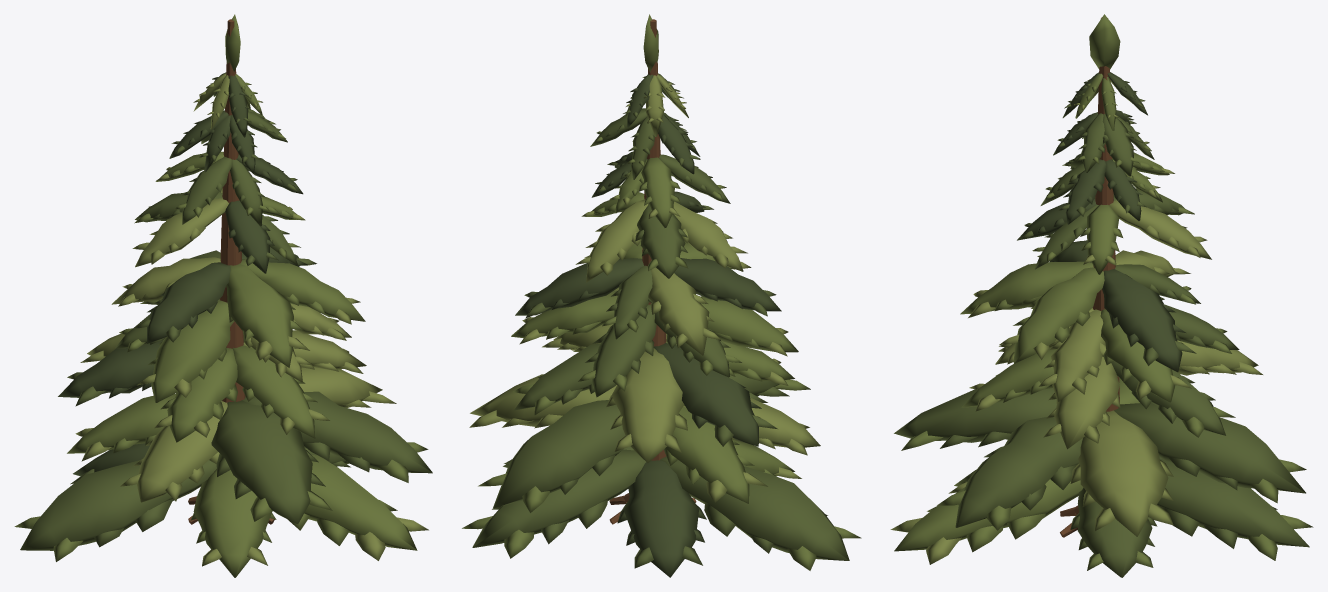
The model's file is pine-1.glb.
The picture shows the model from 3 angles, left to right: view 1: azimuth 30°, elevation 25°; view 2: azimuth 150°, elevation 25°; view 3: azimuth 270°, elevation 25°; orthographic projection. The views are drawn at different scales.
Visible parts, largest first — view 1: pine-1; view 2: pine-1; view 3: pine-1.
Boxes of the visible parts, x1,y1,x2,y2 form: pine-1: (14,14,432,577); pine-1: (462,14,861,577); pine-1: (890,14,1313,577).
Bounding box in the file's own units: 5.38 × 7 × 5.15.
